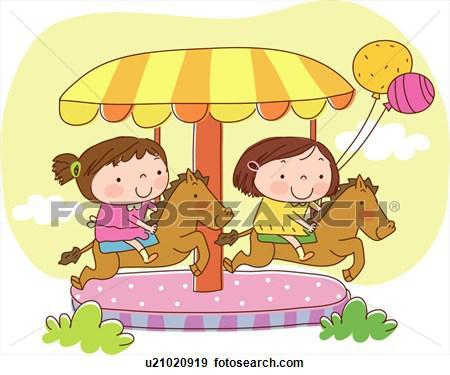horse: (54, 175, 237, 292), (211, 177, 398, 283)
person: (47, 131, 165, 264), (225, 132, 338, 262)
